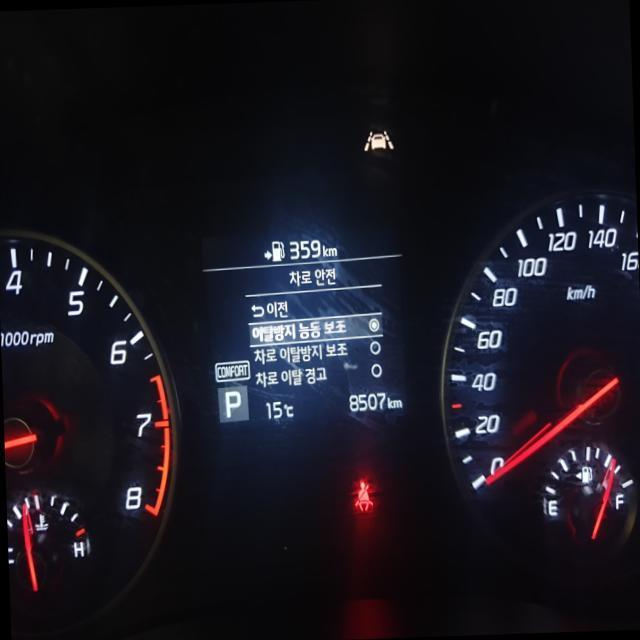LaneCenteringOff: (362, 128, 392, 151)
